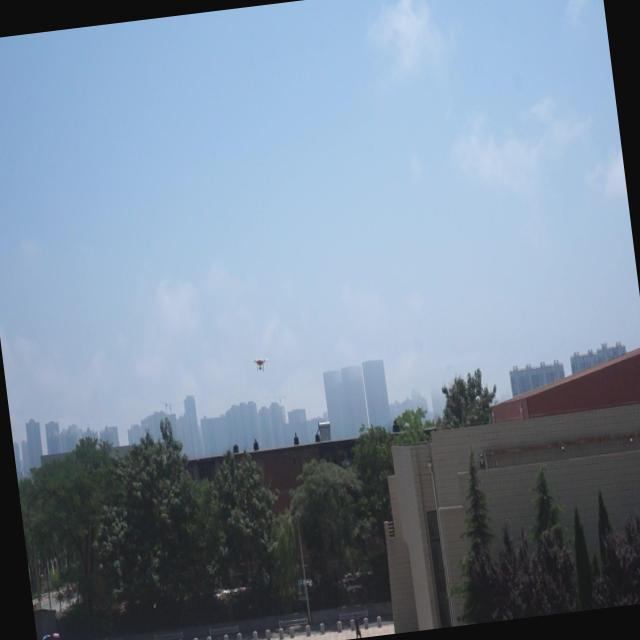drone: (248, 352, 270, 377)
